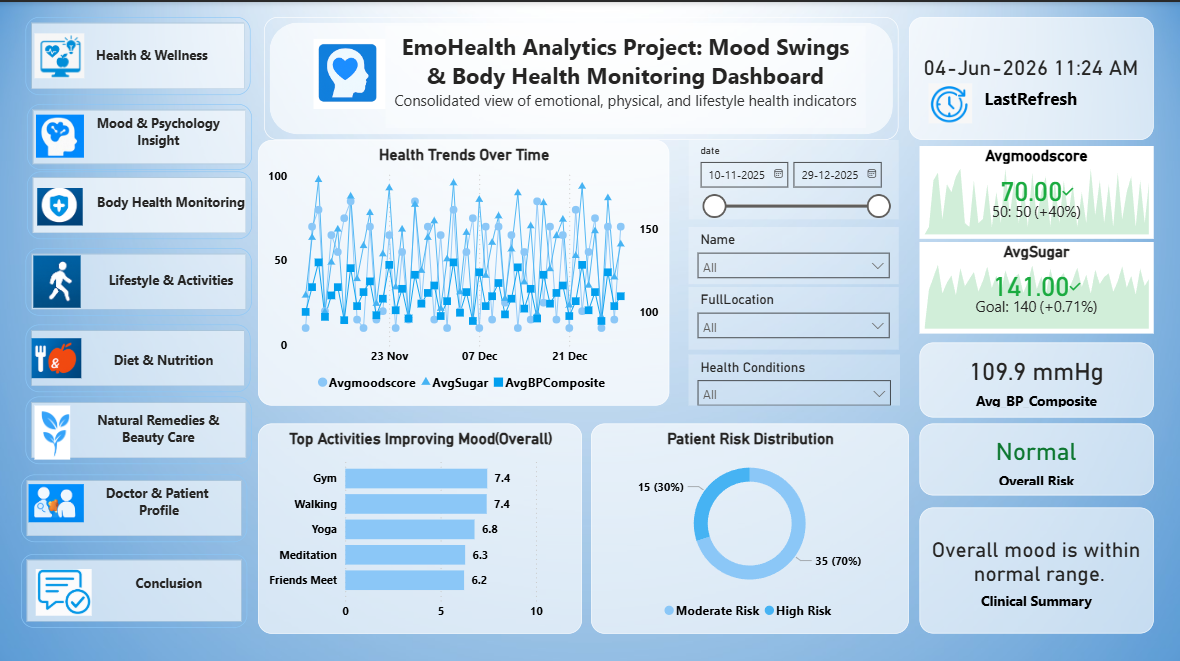

What the dashboard file says about the page in this screenshot:
{"tool":"powerbi","page":{"name":"overview page","canvas":[1280,720],"ordinal":0},"visuals":[{"type":"shape","box":[22.8,512.4,245.6,73.2],"z":0},{"type":"card","fields":{"Values":["Health_Metrics (2).Avg_BP_Composite"]},"box":[997.1,369.2,253.7,81.3],"z":1000},{"type":"card","fields":{"Values":["Health_Metrics (2).Overall Risk"]},"box":[997.1,457.1,253.7,78.1],"z":2000},{"type":"lineChart","title":"Health Trends Over Time","fields":{"Category":["Mood_Stress_Log.Date"],"Y":["Mood_Stress_Log.Avgmoodscore"],"Y2":["Health_Metrics (2).AvgSugar","Health_Metrics (2).AvgBPComposite"]},"box":[279.8,149.6,445.7,287.9],"z":3000},{"type":"barChart","title":"Top Activities Improving Mood(Overall)","fields":{"Category":["lifestyle.Activity"],"Y":["lifestyle.AverageMood"]},"box":[279.8,457.1,351.3,227.7],"z":4000},{"type":"donutChart","title":"Patient Risk Distribution","fields":{"Y":["CountNonNull(Patients.Patient ID)"],"Category":["Health_Metrics (2).Risk_Category"]},"box":[640.9,457.1,344.8,227.7],"z":5000},{"type":"card","fields":{"Values":["Mood_Stress_Log.Summary Insight"]},"box":[997.1,548.1,253.7,136.6],"z":6000},{"type":"shape","title":"EmoHealth Analytics Project Title: Mood Swings & Body Health Monitoring Dashboard","box":[286.3,16.3,688,133.4],"z":7000},{"type":"card","fields":{"Values":["Calendar.LastRefresh"]},"box":[985.7,16.3,265.1,133.4],"z":8000},{"type":"shape","box":[27.7,16.3,244,84.6],"z":9000},{"type":"shape","box":[29.3,110.6,244,71.6],"z":10000},{"type":"shape","box":[29.3,183.8,244,73.2],"z":11000},{"type":"shape","box":[27.7,266.8,245.6,73.2],"z":12000},{"type":"shape","box":[27.7,349.7,244,73.2],"z":13000},{"type":"shape","box":[27.7,427.8,245.6,73.2],"z":14000},{"type":"shape","box":[22.8,598.6,245.6,79.7],"z":15000},{"type":"image","box":[339.9,26,78.1,104.1],"z":16000},{"type":"image","box":[37.4,26,53.7,65.1],"z":17000},{"type":"image","box":[39,115.5,52,60.2],"z":18000},{"type":"image","box":[39,201.7,52,40.7],"z":19000},{"type":"image","box":[22.8,274.9,78.1,56.9],"z":20000},{"type":"image","box":[34.2,354.6,53.7,63.4],"z":21000},{"type":"image","box":[30.9,507.5,60.2,71.6],"z":22000},{"type":"image","box":[22.8,437.5,68.3,58.6],"z":23000},{"type":"image","box":[37.4,614.8,63.4,50.4],"z":24000},{"type":"textbox","box":[99.2,42.3,144.8,40.7],"z":25000},{"type":"textbox","box":[99.2,115.5,144.8,60.2],"z":26000},{"type":"textbox","box":[99.2,201.7,172.4,40.7],"z":27000},{"type":"textbox","box":[99.2,286.3,172.4,45.5],"z":28000},{"type":"textbox","box":[99.2,372.5,156.1,40.7],"z":29000},{"type":"textbox","box":[99.2,437.5,144.8,61.8],"z":30000},{"type":"textbox","box":[100.8,517.2,143.1,61.8],"z":31000},{"type":"textbox","box":[110.6,614.8,144.8,50.4],"z":32000},{"type":"image","box":[1006.8,83,47.2,53.7],"z":33000},{"type":"textbox","box":[418,26,520.5,110.6],"z":34000},{"type":"kpi","title":"Avgmoodscore","fields":{"TrendLine":["Mood_Stress_Log.Date"],"Indicator":["Mood_Stress_Log.Avgmoodscore"],"Goal":["Mood_Stress_Log.mood score target"]},"box":[997.1,156.1,253.7,100.8],"z":35000},{"type":"kpi","title":"AvgSugar","fields":{"Indicator":["Health_Metrics (2).AvgSugar"],"TrendLine":["Health_Metrics (2).date"],"Goal":["Health_Metrics (2).Sugar Target"]},"box":[997.1,260.2,253.7,99.2],"z":36000},{"type":"slicer","fields":{"Values":["Health_Metrics (2).date"]},"box":[746.6,149.6,227.7,86.2],"z":37000},{"type":"slicer","fields":{"Values":["Patients.Name"]},"box":[746.6,244,227.7,61.8],"z":38000},{"type":"slicer","fields":{"Values":["Patients.FullLocation"]},"box":[746.6,309,227.7,68.3],"z":39000},{"type":"slicer","fields":{"Values":["Patients.Health Conditions"]},"box":[746.6,382.2,229.3,55.3],"z":40000}]}

Visuals, with their boxes in screenshot pixels (x1, y1, x2, y2), scaled from the page's 1280x720 canvas onto the 1180x661 screenshot:
shape: bbox=[21, 470, 247, 538]
card - Health_Metrics (2).Avg_BP_Composite: bbox=[919, 339, 1153, 414]
card - Health_Metrics (2).Overall Risk: bbox=[919, 420, 1153, 491]
"Health Trends Over Time" lineChart: bbox=[258, 137, 669, 402]
"Top Activities Improving Mood(Overall)" barChart: bbox=[258, 420, 582, 629]
"Patient Risk Distribution" donutChart: bbox=[591, 420, 909, 629]
card - Mood_Stress_Log.Summary Insight: bbox=[919, 503, 1153, 629]
"EmoHealth Analytics Project Title: Mood Swings & Body Health Monitoring Dashboard" shape: bbox=[264, 15, 898, 137]
card - Calendar.LastRefresh: bbox=[909, 15, 1153, 137]
shape: bbox=[26, 15, 250, 93]
shape: bbox=[27, 102, 252, 167]
shape: bbox=[27, 169, 252, 236]
shape: bbox=[26, 245, 252, 312]
shape: bbox=[26, 321, 250, 388]
shape: bbox=[26, 393, 252, 460]
shape: bbox=[21, 550, 247, 623]
image: bbox=[313, 24, 385, 119]
image: bbox=[34, 24, 84, 84]
image: bbox=[36, 106, 84, 161]
image: bbox=[36, 185, 84, 223]
image: bbox=[21, 252, 93, 305]
image: bbox=[32, 326, 81, 384]
image: bbox=[28, 466, 84, 532]
image: bbox=[21, 402, 84, 455]
image: bbox=[34, 564, 93, 611]
textbox: bbox=[91, 39, 225, 76]
textbox: bbox=[91, 106, 225, 161]
textbox: bbox=[91, 185, 250, 223]
textbox: bbox=[91, 263, 250, 305]
textbox: bbox=[91, 342, 235, 379]
textbox: bbox=[91, 402, 225, 458]
textbox: bbox=[93, 475, 225, 532]
textbox: bbox=[102, 564, 235, 611]
image: bbox=[928, 76, 972, 125]
textbox: bbox=[385, 24, 865, 125]
"Avgmoodscore" kpi: bbox=[919, 143, 1153, 236]
"AvgSugar" kpi: bbox=[919, 239, 1153, 330]
slicer - Health_Metrics (2).date: bbox=[688, 137, 898, 216]
slicer - Patients.Name: bbox=[688, 224, 898, 281]
slicer - Patients.FullLocation: bbox=[688, 284, 898, 346]
slicer - Patients.Health Conditions: bbox=[688, 351, 900, 402]
